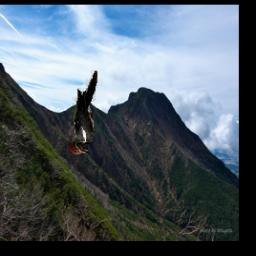Woodpecker: (69, 71, 97, 155)
